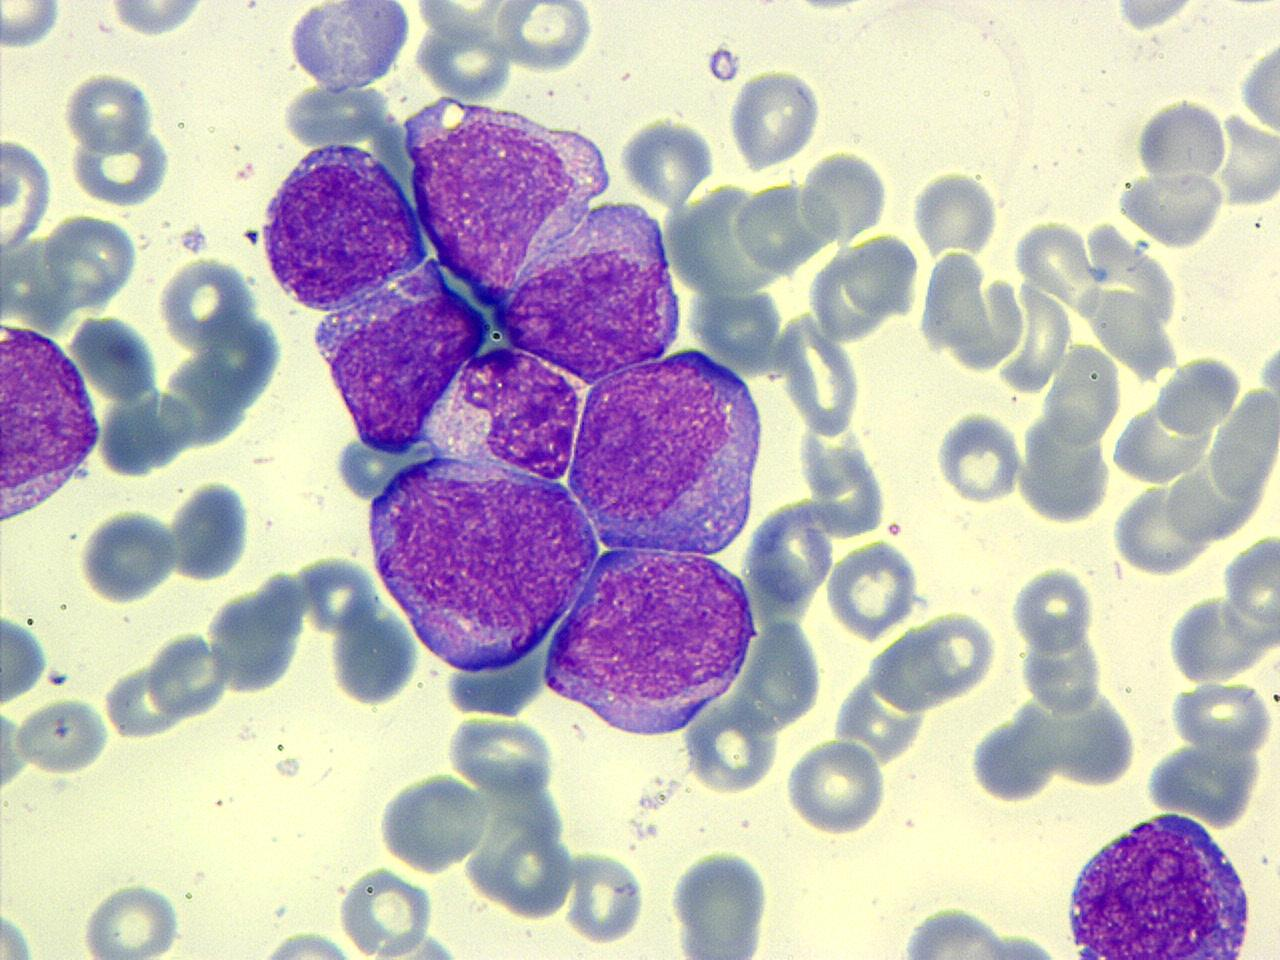Platelets: (1256, 340, 1280, 408), (178, 222, 210, 257), (46, 668, 70, 688), (243, 227, 261, 245), (1132, 237, 1148, 253)
RBC: (0, 608, 487, 960), (727, 0, 1268, 264), (666, 845, 776, 958), (374, 768, 488, 876), (1016, 406, 1115, 524), (776, 310, 866, 436), (726, 63, 826, 172), (785, 737, 891, 835), (681, 696, 780, 798), (824, 537, 920, 641), (992, 277, 1074, 398), (77, 507, 179, 604), (338, 863, 439, 959), (447, 713, 558, 800), (67, 122, 174, 209), (619, 115, 719, 208), (1113, 170, 1227, 250), (1135, 92, 1229, 189), (79, 877, 186, 960), (909, 164, 1004, 257), (563, 845, 647, 947), (934, 408, 1022, 505), (62, 68, 158, 156), (144, 628, 227, 724), (14, 694, 111, 775), (416, 25, 516, 98), (492, 2, 596, 71), (1, 134, 55, 263), (1224, 530, 1280, 634), (0, 606, 50, 706), (413, 0, 519, 47), (1238, 26, 1280, 144), (105, 0, 210, 39), (245, 927, 368, 959), (0, 1, 62, 50), (1, 702, 31, 802), (1111, 0, 1201, 32), (0, 902, 40, 959)
WBC: (202, 38, 988, 791), (363, 448, 594, 676), (560, 344, 768, 565), (538, 536, 758, 743), (1059, 806, 1263, 960), (257, 141, 420, 314), (0, 316, 107, 526), (666, 844, 776, 960), (284, 0, 415, 97), (377, 769, 490, 873), (168, 476, 253, 584)
